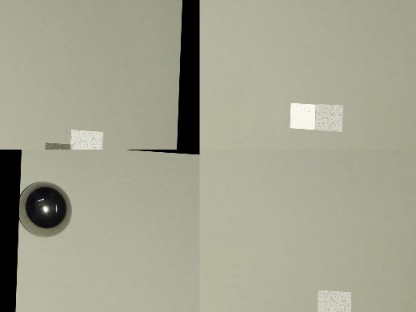ironball: (19, 180, 71, 236)
